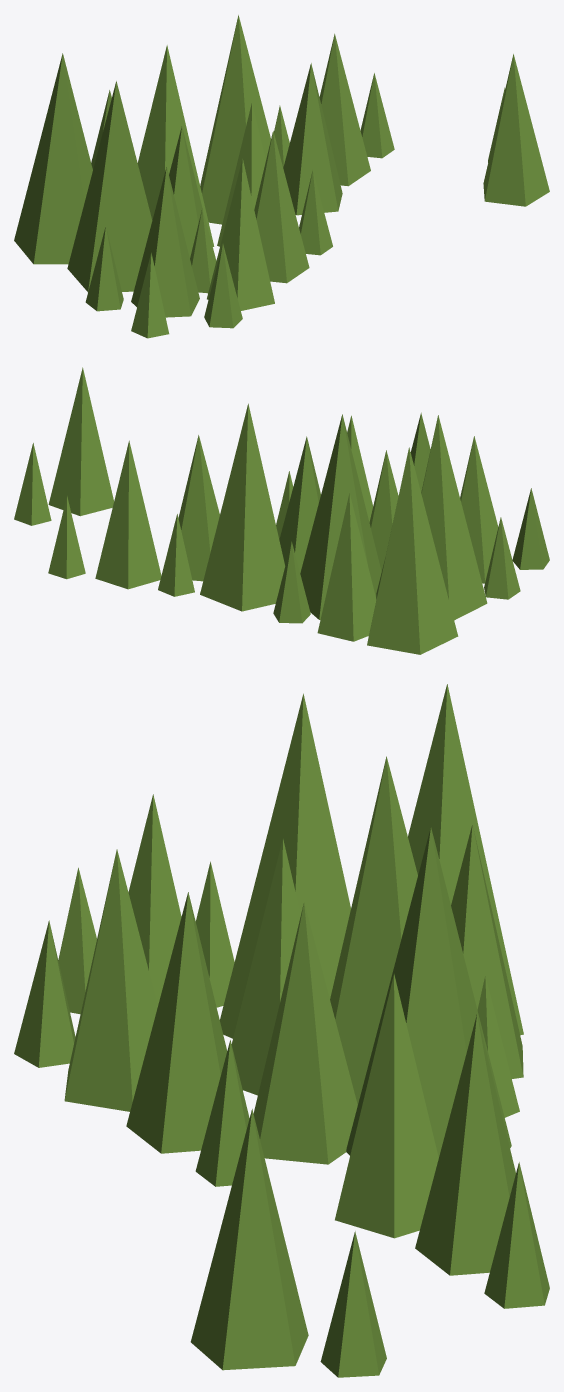
Rendered from tileset_trees.fbx.
3 renders of one model, top to bottom at view 1: azimuth 30°, elevation 25°; view 2: azimuth 150°, elevation 25°; view 3: azimuth 270°, elevation 25°, orthographic. The views are drawn at different scales.
Parts seen in each view (by area): view 1: trees_flat, trees_line, trees_in, trees_saddle, trees_out; view 2: trees_flat, trees_in, trees_saddle, trees_line, trees_out; view 3: trees_flat, trees_in, trees_saddle, trees_line, trees_out.
Boxes of the visible parts, box(x1,y1,x2,y2) form: trees_flat: box(14, 45, 214, 291); trees_line: box(85, 158, 274, 338); trees_in: box(200, 15, 342, 246); trees_saddle: box(319, 33, 549, 206); trees_out: box(254, 131, 332, 283); trees_flat: box(273, 414, 487, 654); trees_in: box(158, 403, 320, 611); trees_saddle: box(14, 367, 161, 589); trees_line: box(410, 412, 549, 599); trees_out: box(276, 415, 372, 539); trees_flat: box(219, 684, 523, 1117); trees_in: box(253, 827, 511, 1238); trees_saddle: box(190, 1014, 549, 1377); trees_line: box(14, 794, 234, 1111); trees_out: box(126, 892, 249, 1186).
Size of the model in its own units: 16.19 by 6.37 by 9.28.
